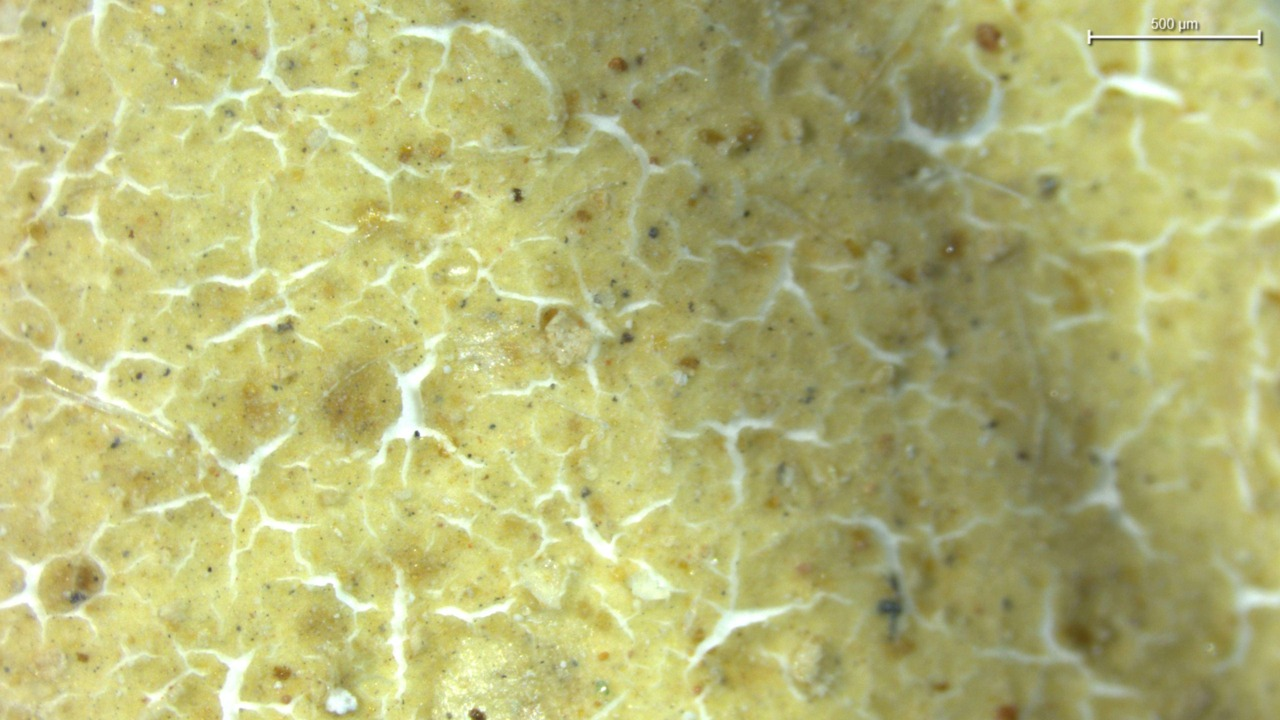microplastic_fragment: (545, 311, 598, 369), (326, 688, 357, 713)
